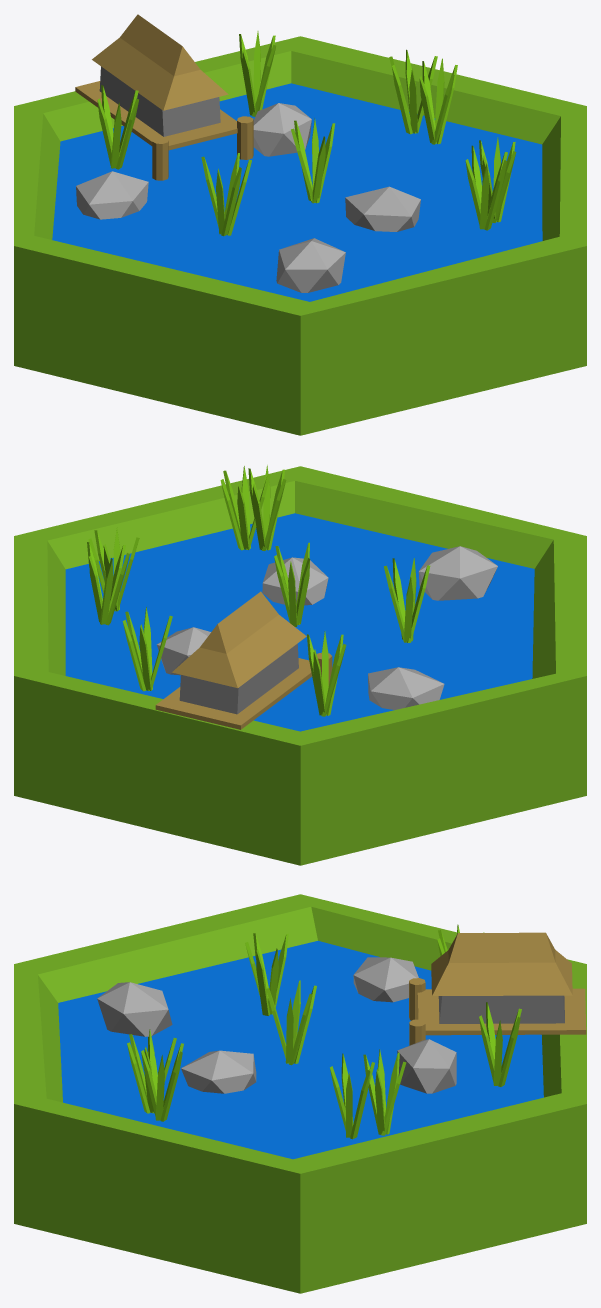
The model's file is Casas_Lago_Cerrado_1.fbx.
3 views of the same model, one above another, from view 1: azimuth 30°, elevation 25°; view 2: azimuth 150°, elevation 25°; view 3: azimuth 270°, elevation 25° (orthographic).
Visible parts, largest first — view 1: Casas_Lago_Cerrado_1; view 2: Casas_Lago_Cerrado_1; view 3: Casas_Lago_Cerrado_1.
Part boxes in pixels (x1,y1,x2,y2): Casas_Lago_Cerrado_1: [14, 14, 586, 435]; Casas_Lago_Cerrado_1: [14, 465, 586, 865]; Casas_Lago_Cerrado_1: [14, 894, 586, 1293].
Size of the model in its own units: 200 by 67.29 by 173.
